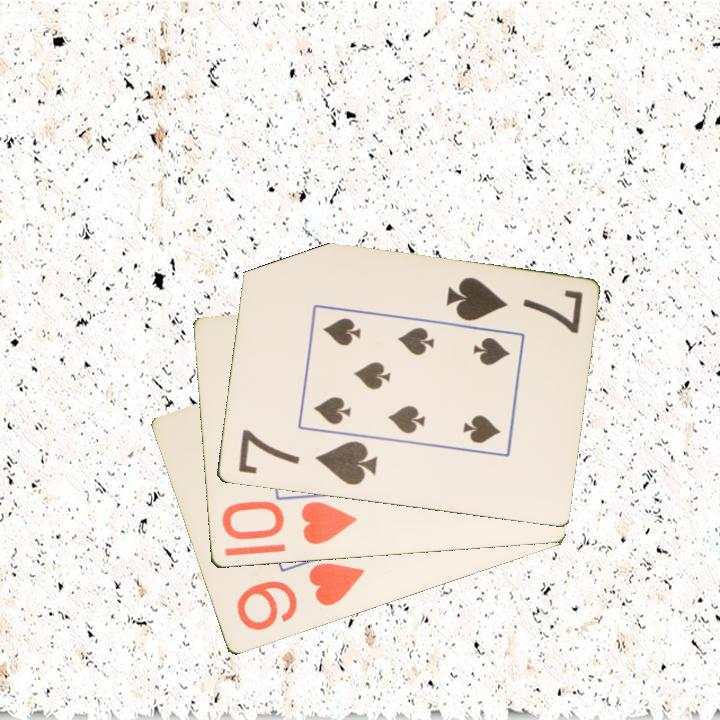10h: (217, 498, 360, 548)
7s: (441, 273, 585, 337), (234, 426, 380, 489)
9h: (233, 559, 367, 634)
